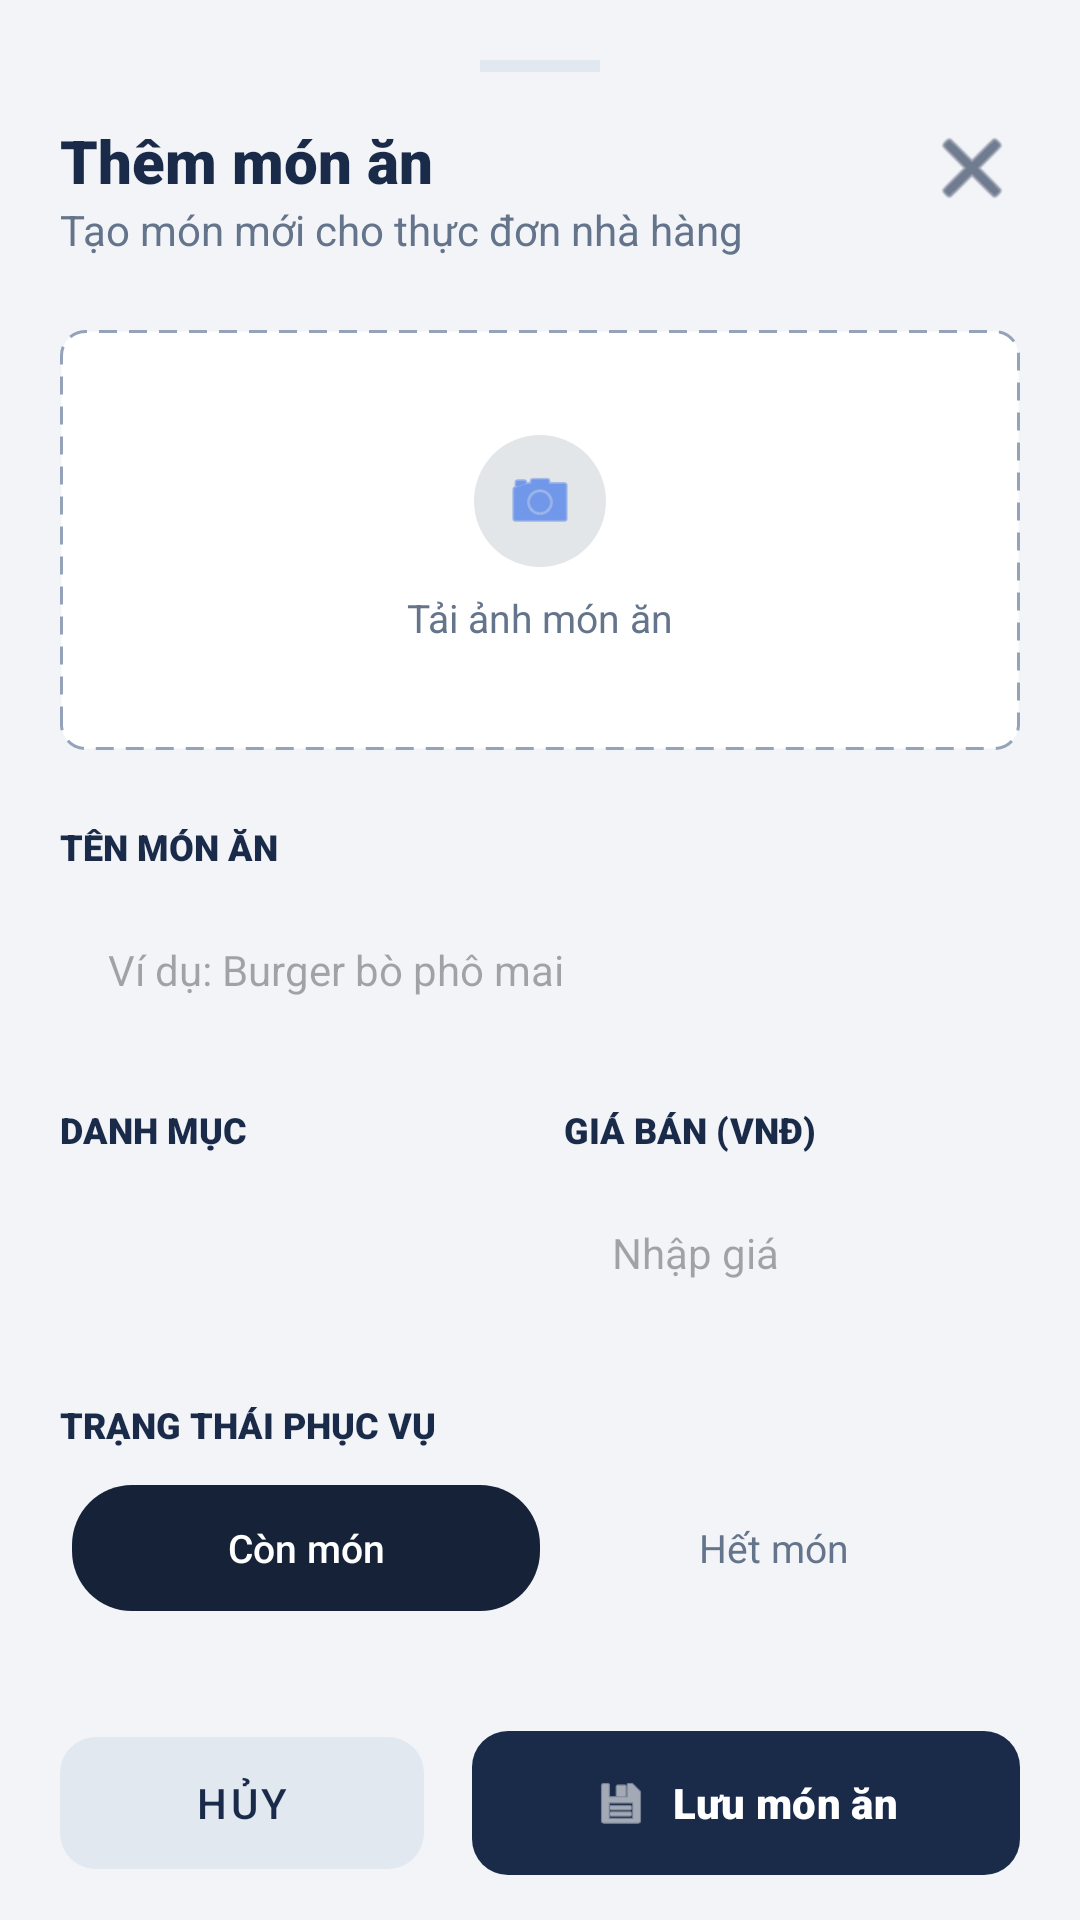

Point at icon controls on the screen. Image size 1080px×1920px, points as point (x, y).
camera: point (540, 501)
close clear cancel: point (972, 168)
